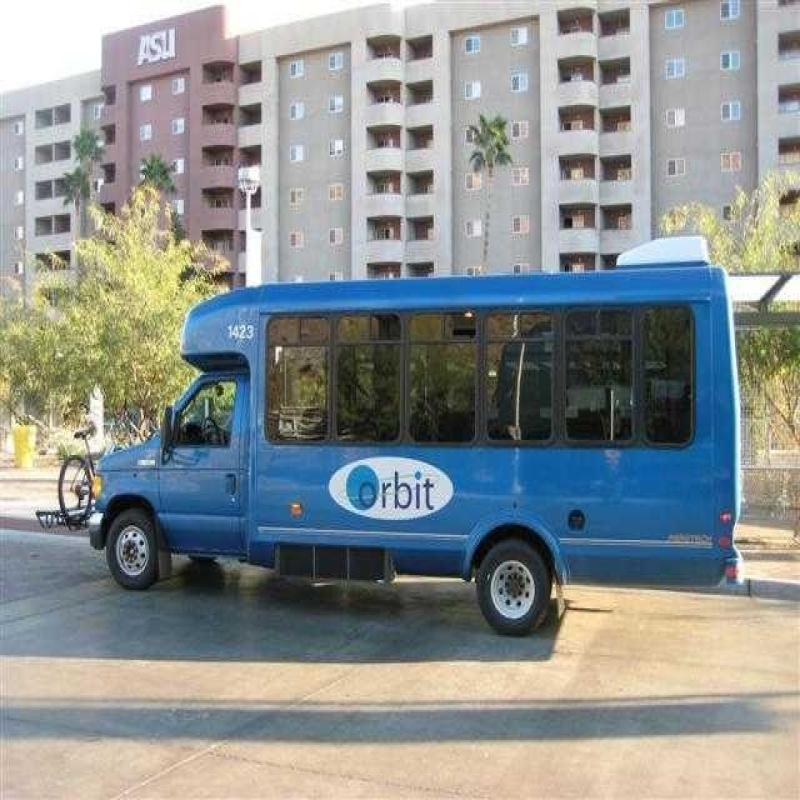bus: (68, 189, 746, 643)
